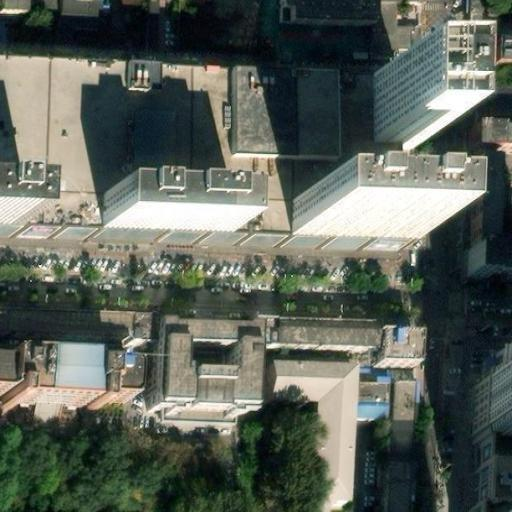building: (0, 73, 411, 264), (272, 358, 360, 504), (160, 315, 267, 421), (357, 380, 417, 512), (0, 354, 130, 410), (274, 222, 405, 264), (87, 210, 219, 251), (357, 91, 415, 164), (265, 321, 383, 352), (467, 441, 512, 512), (472, 384, 512, 452), (471, 166, 498, 249), (283, 0, 374, 21), (381, 328, 424, 358), (472, 118, 512, 147), (61, 0, 104, 26), (470, 248, 512, 273), (494, 40, 512, 65), (29, 0, 62, 11)
